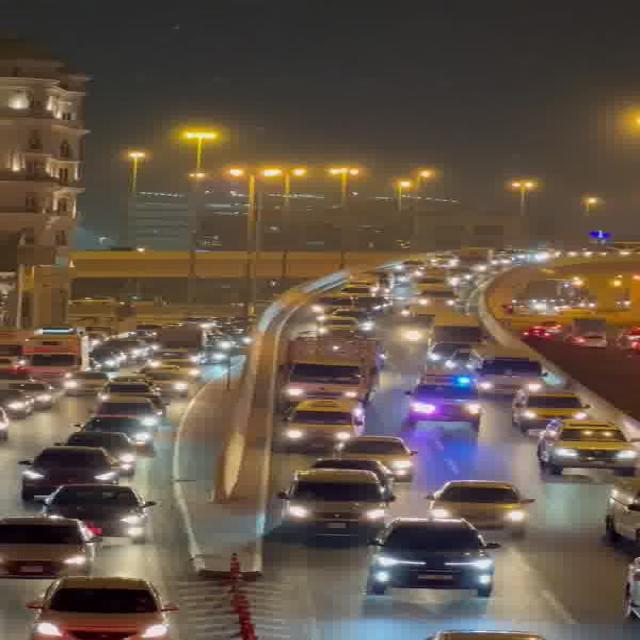ambulance: (404, 365, 494, 430)
